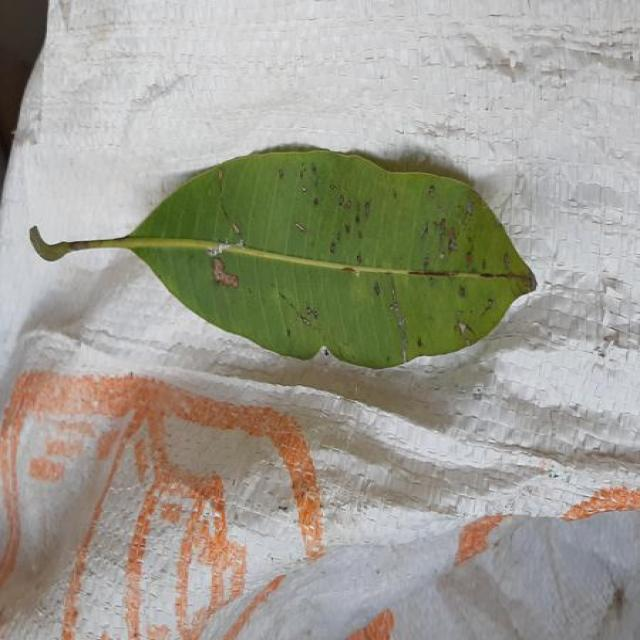Anthracnose: (90, 150, 535, 368)
mango: (30, 150, 535, 368)
